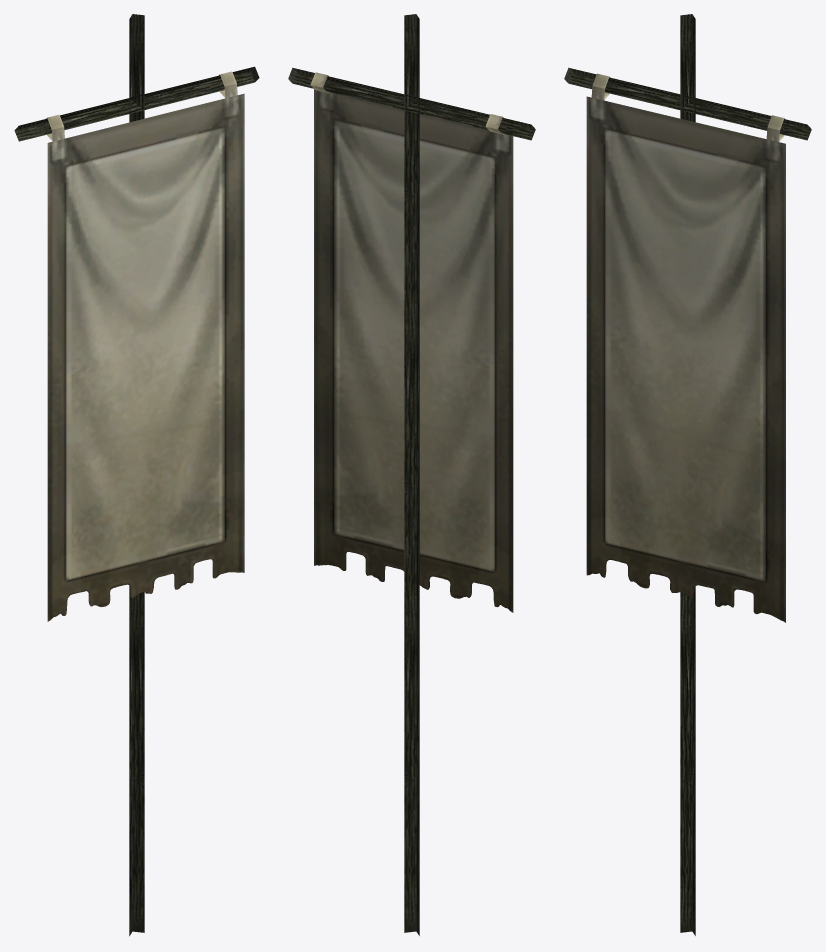
3 renders of one model, left to right at view 1: azimuth 30°, elevation 25°; view 2: azimuth 150°, elevation 25°; view 3: azimuth 330°, elevation 25°, orthographic.
Visible parts, largest first — view 1: qingmo_obj_047 [10484267]; view 2: qingmo_obj_047 [10484267]; view 3: qingmo_obj_047 [10484267].
Part boxes in pixels (box(x1,y1,x2,y2)): qingmo_obj_047 [10484267]: box(14, 14, 259, 936); qingmo_obj_047 [10484267]: box(288, 14, 535, 935); qingmo_obj_047 [10484267]: box(564, 14, 811, 935).
Size of the model in its own units: 11.99 by 1.03 by 44.21.
Materials: 1 (1 with a texture image).
